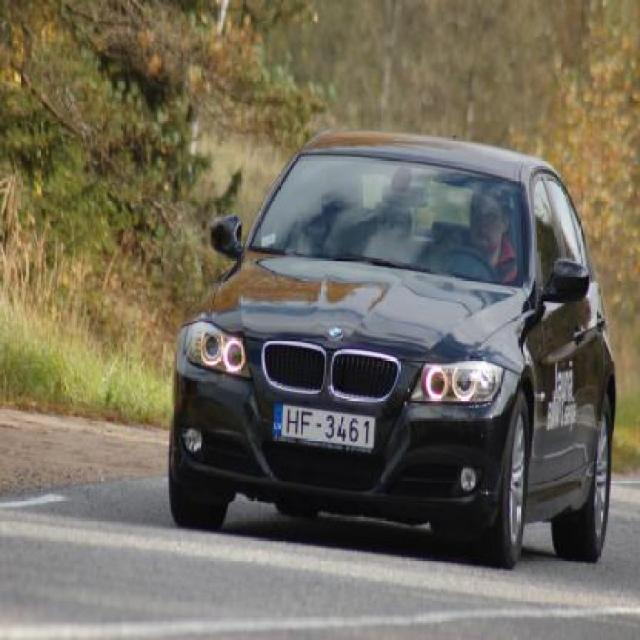Licenseplate: (270, 400, 384, 452)
